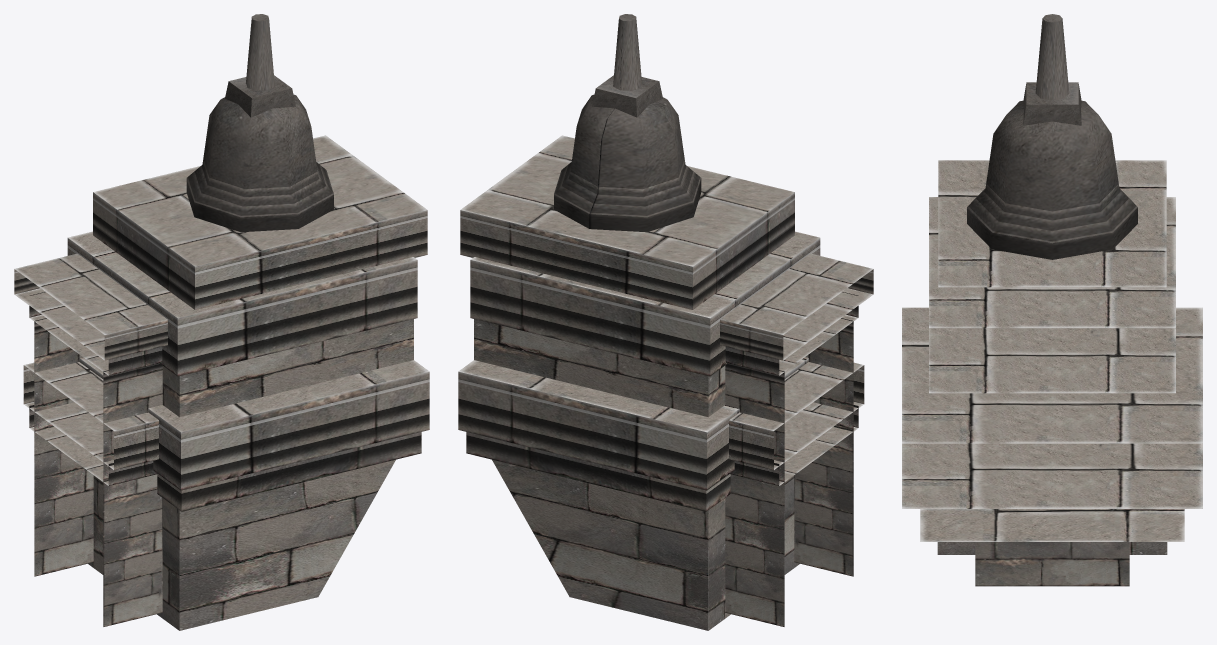
The model's file is Gate_C.FBX.
3 views of the same model, side by side, from view 1: azimuth 30°, elevation 25°; view 2: azimuth 150°, elevation 25°; view 3: azimuth 270°, elevation 25° (orthographic). The views are drawn at different scales.
Parts seen in each view (by area): view 1: Gate_C; view 2: Gate_C; view 3: Gate_C.
Boxes of the visible parts, x1,y1,x2,y2 form: Gate_C: (14,14,429,630); Gate_C: (458,14,873,630); Gate_C: (902,14,1202,586).
Bounding box in the file's own units: 1.79 × 2.93 × 1.31.
